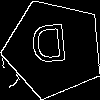D: (28, 23, 70, 72)
